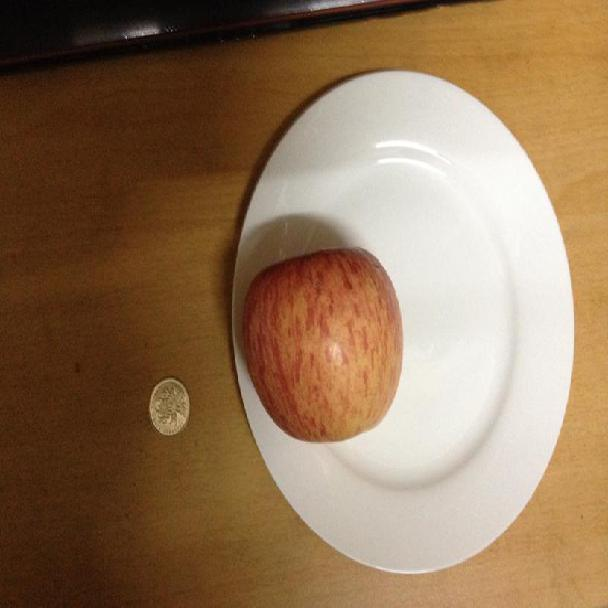apple: (244, 247, 403, 445)
